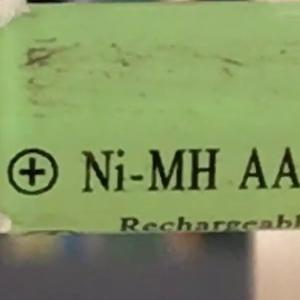NI-MH: (72, 139, 228, 202)
